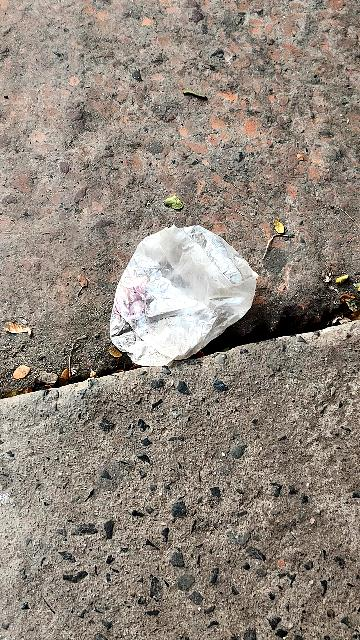polythene: (101, 203, 258, 357)
